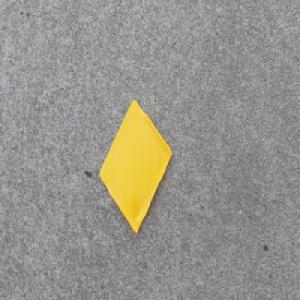PlasticPart: (98, 97, 173, 235)
